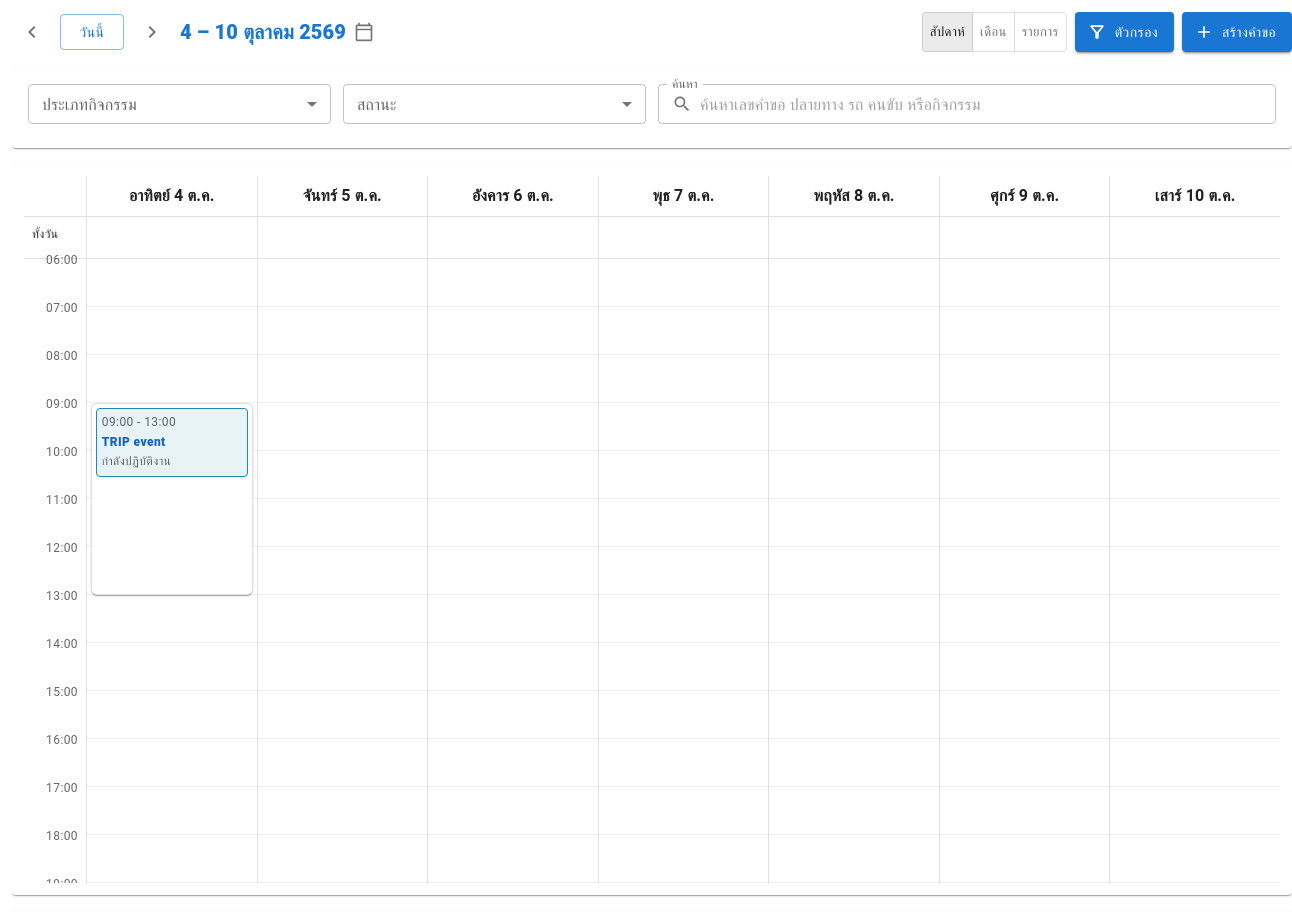
Test: FleetCalendarPage › shows an unfinished trip on its scheduled day in week view
This screenshot has width=1292, height=912.
Click the button "09:00 - 13:00 TRIP event กำลังปฏิบัติงาน" at (172, 442), box [96,408,248,477]
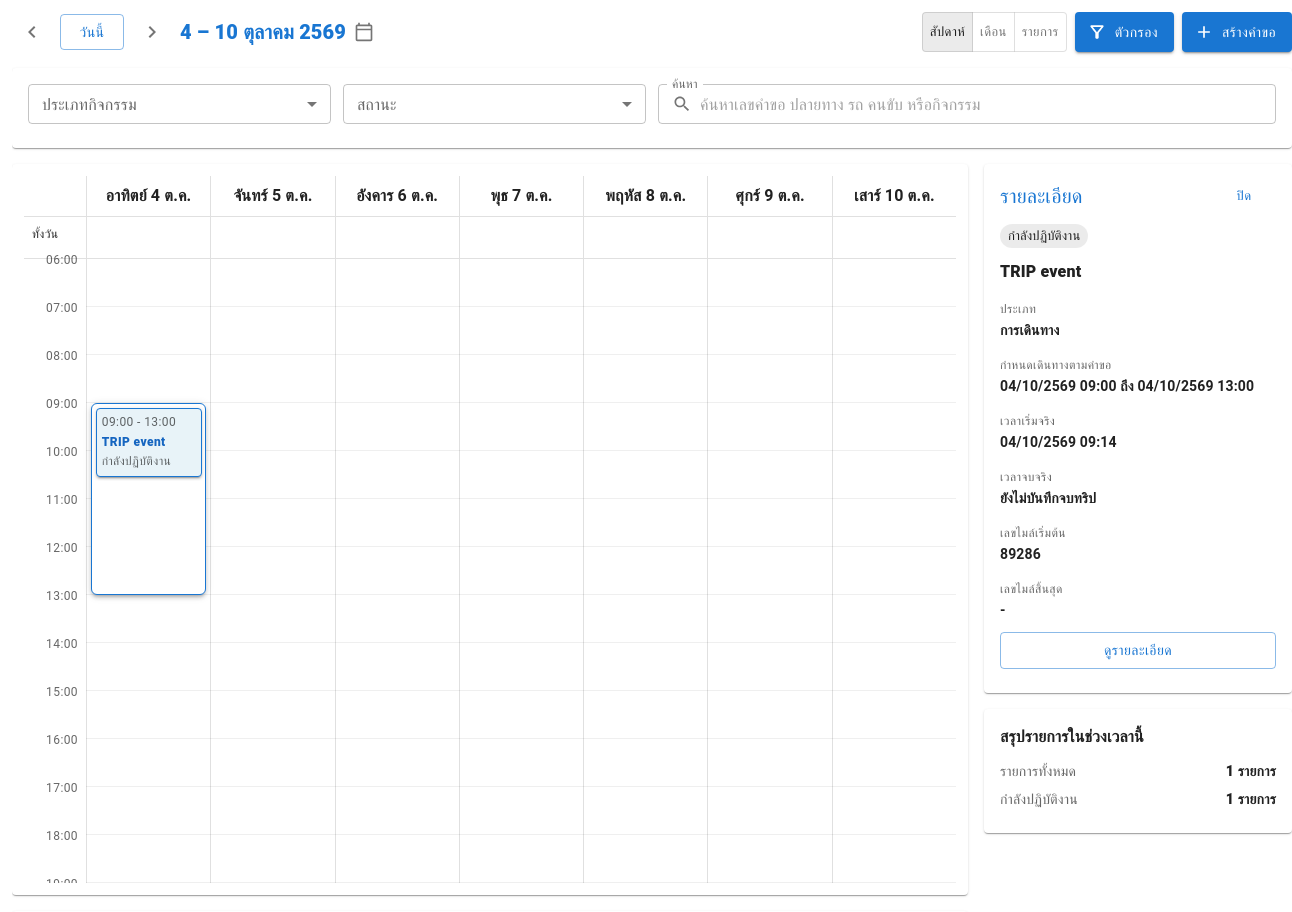
expect the text "กำหนดเดินทางตามคำขอ" is shown: met, box [1000,358,1112,372]
expect the text "เวลาเริ่มจริง" is shown: met, box [1000,414,1055,428]
expect the text "ยังไม่บันทึกจบทริป" is shown: met, box [1000,490,1096,506]
